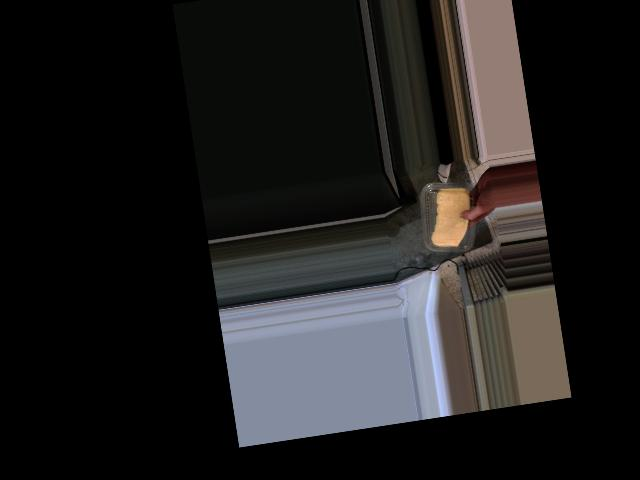cheese: (420, 177, 481, 255)
